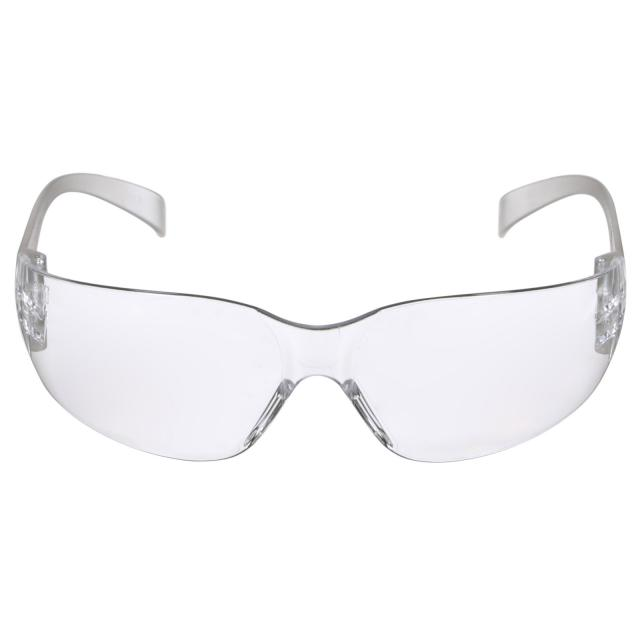Protective Glasses: (0, 132, 640, 519)
